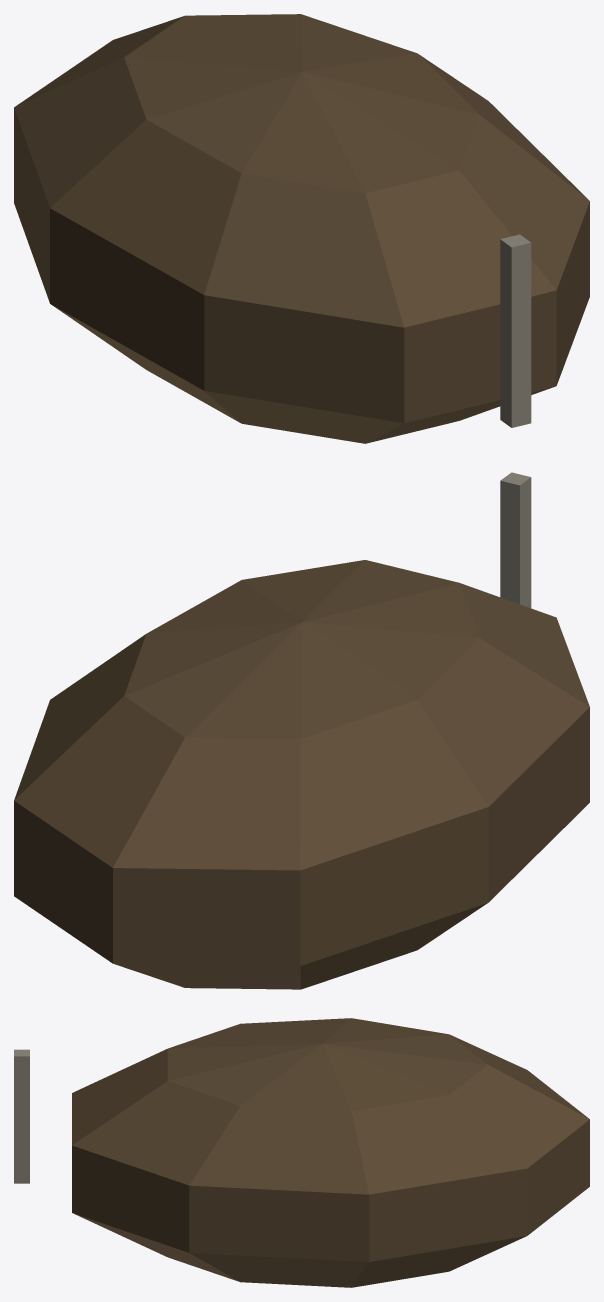
File: cape_new_grave.glb
3 renders of one model, top to bottom at view 1: azimuth 30°, elevation 25°; view 2: azimuth 150°, elevation 25°; view 3: azimuth 270°, elevation 25°, orthographic. The views are drawn at different scales.
Parts seen in each view (by area): view 1: cape_new_grave; view 2: cape_new_grave; view 3: cape_new_grave.
Boxes of the visible parts, x1,y1,x2,y2 form: cape_new_grave: [14, 14, 589, 443]; cape_new_grave: [14, 472, 589, 989]; cape_new_grave: [14, 1018, 589, 1287].
Size of the model in its own units: 1.78 by 1.2 by 2.87.
